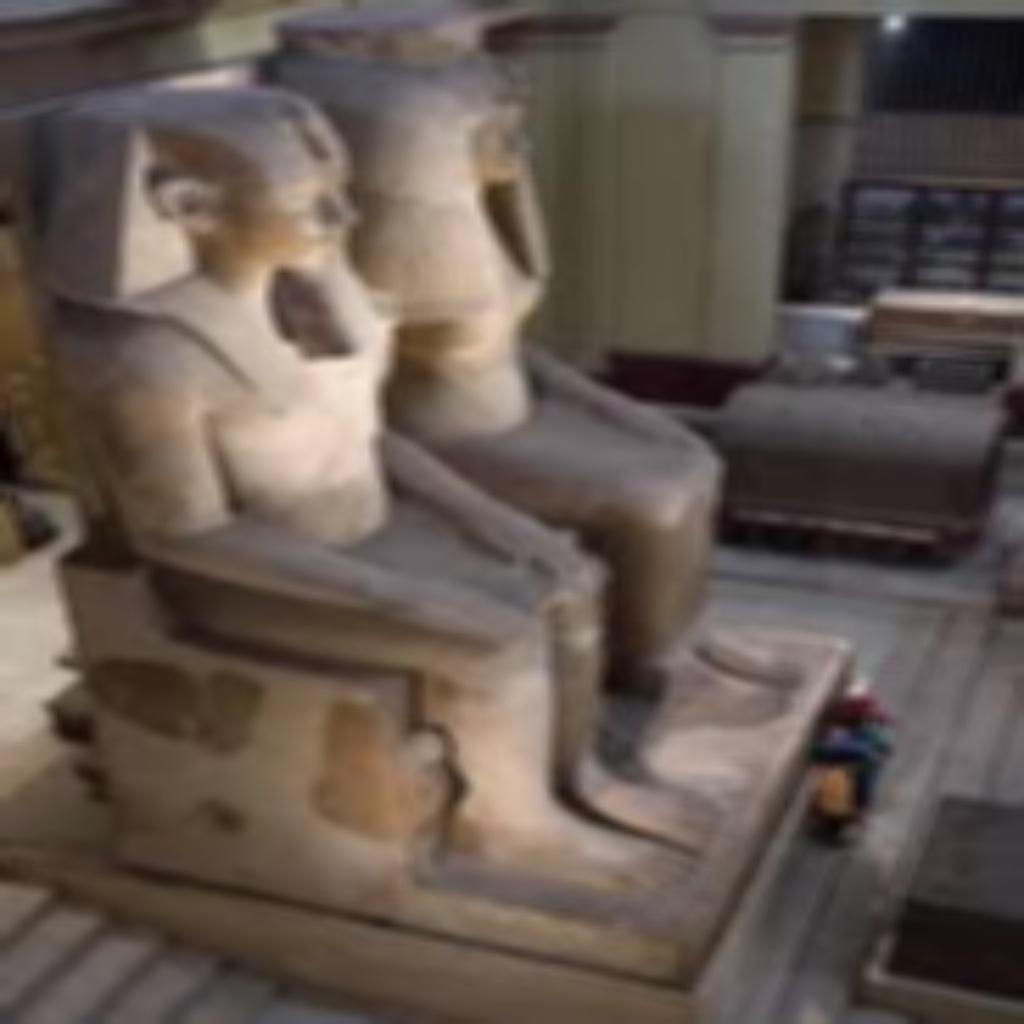Amenhotep III and Tiye: (12, 20, 728, 893)
